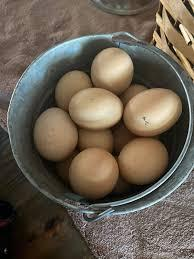egg: (126, 86, 178, 140), (67, 145, 119, 199), (70, 83, 125, 128), (117, 138, 171, 182), (32, 104, 72, 158), (92, 45, 134, 89), (54, 72, 95, 112)
